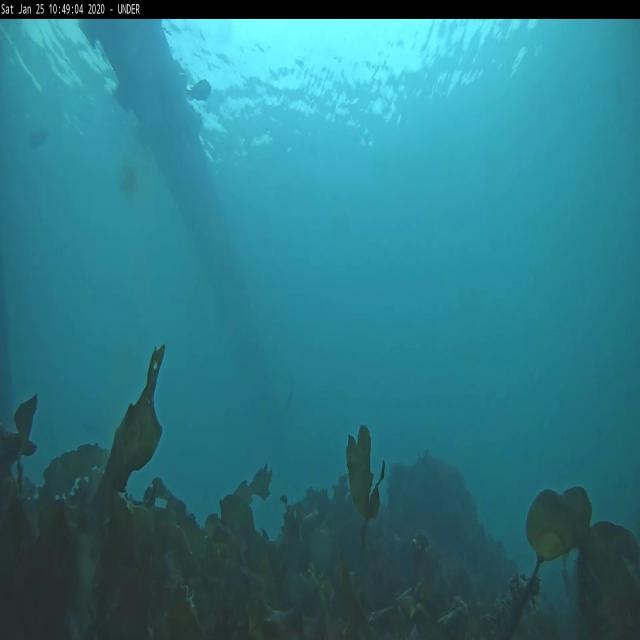fish: (26, 128, 48, 152), (190, 82, 211, 99)
